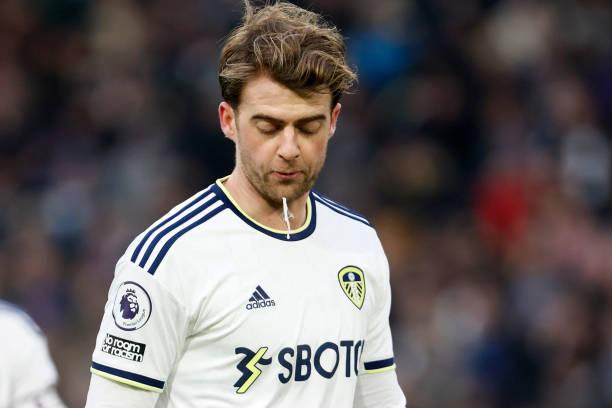Spitting: (187, 0, 381, 234)
